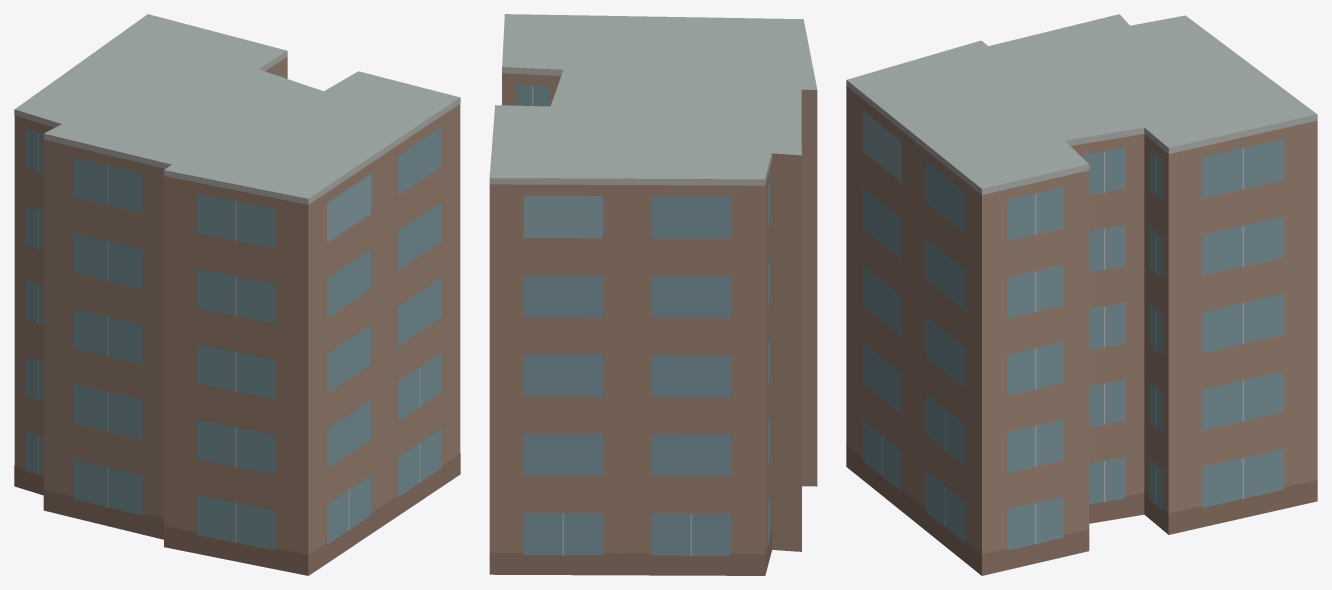
The model's file is survey-upis-32737772.glb.
3 views of the same model, side by side, from view 1: azimuth 30°, elevation 25°; view 2: azimuth 150°, elevation 25°; view 3: azimuth 270°, elevation 25° (orthographic). The views are drawn at different scales.
Parts seen in each view (by area): view 1: survey-upis-32737772.tmp; view 2: survey-upis-32737772.tmp; view 3: survey-upis-32737772.tmp.
Boxes of the visible parts, x1,y1,x2,y2 form: survey-upis-32737772.tmp: (14,14,460,575); survey-upis-32737772.tmp: (489,14,817,575); survey-upis-32737772.tmp: (846,14,1317,575).
Size of the model in its own units: 15.05 by 15.5 by 17.12.
